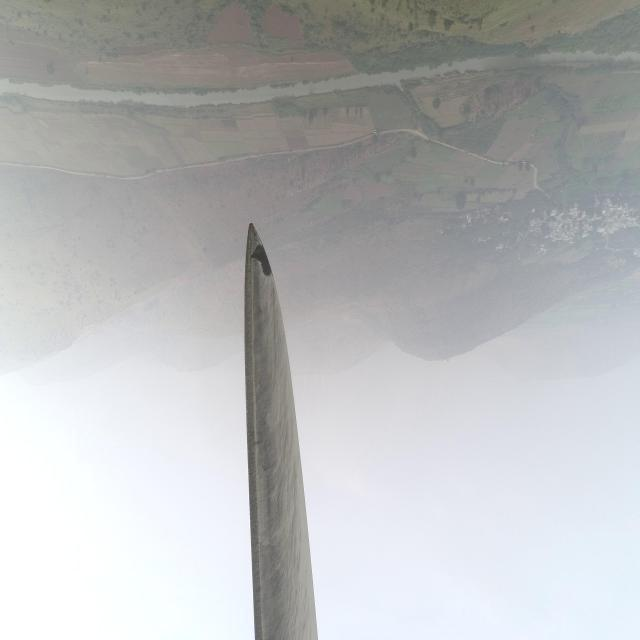Dirt: (245, 217, 322, 640)
Oil LEAKAGE: (249, 242, 274, 278)
